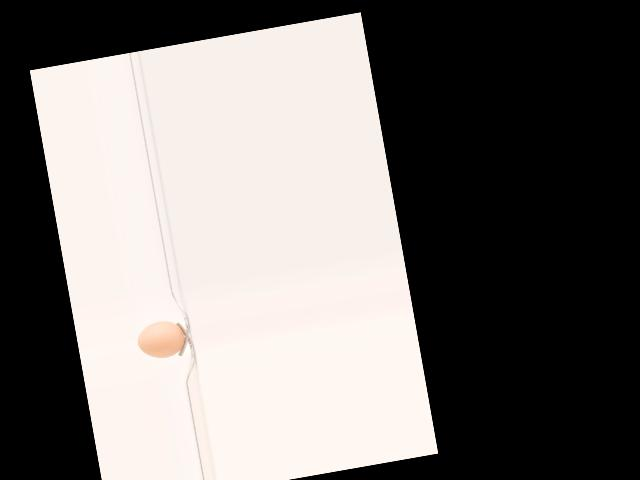egg: (135, 317, 187, 361)
